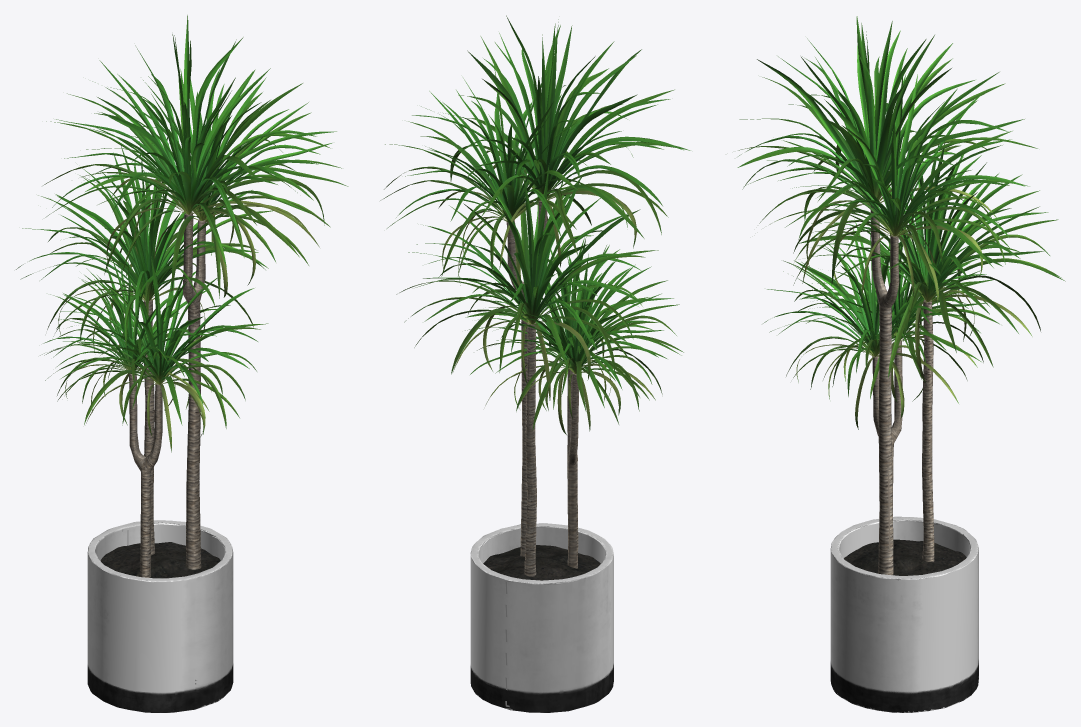
The model's file is raw_model.obj.
3 renders of one model, left to right at view 1: azimuth 30°, elevation 25°; view 2: azimuth 150°, elevation 25°; view 3: azimuth 270°, elevation 25°, orthographic. The views are drawn at different scales.
Parts seen in each view (by area): view 1: solid_002, solid_004, solid_001, solid_003; view 2: solid_002, solid_004, solid_001, solid_003; view 3: solid_002, solid_004, solid_001, solid_003.
Part boxes in pixels (bbox=[...]): solid_002: bbox=[16, 15, 348, 452]; solid_004: bbox=[87, 520, 233, 712]; solid_001: bbox=[129, 212, 206, 577]; solid_003: bbox=[100, 542, 220, 578]; solid_002: bbox=[380, 15, 690, 434]; solid_004: bbox=[470, 523, 613, 712]; solid_001: bbox=[506, 200, 578, 576]; solid_003: bbox=[483, 545, 600, 580]; solid_002: bbox=[737, 16, 1065, 429]; solid_004: bbox=[830, 516, 978, 712]; solid_001: bbox=[870, 205, 934, 575]; solid_003: bbox=[844, 539, 966, 575].
Size of the model in its own units: 0.7939 by 1.8 by 0.8388.
1 material, 1 textured.
